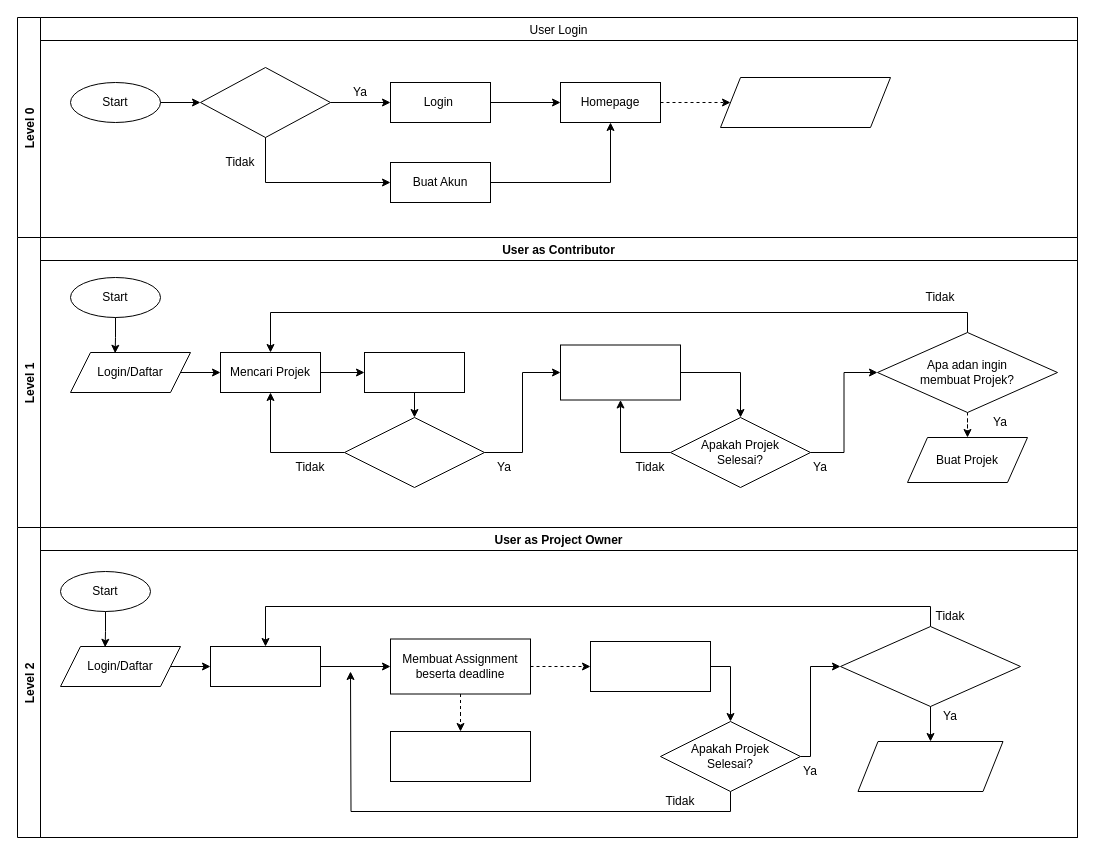
Some shapes in this 1095 by 855 pixel diagram are drawn without their labels. Here are the shapes that lost their labels. From the top down, the centre of each, then its label:
the point at 265,102: Mempunyai akun?
the point at 805,102: Buat atau Join Projek
the point at 414,372: Join Projek
the point at 620,372: Mengerjakan Assigment Projek
the point at 414,452: Disetuji oleh Projek Owner?
the point at 265,666: Membuat Projek
the point at 650,666: Mengerjakan Assigntment
the point at 930,666: Apa anda ingin berkontribusi dalam projek lain?
the point at 460,756: Undang Kontributor/ Acc Kontributor
the point at 930,766: Join sebagai Contributor
